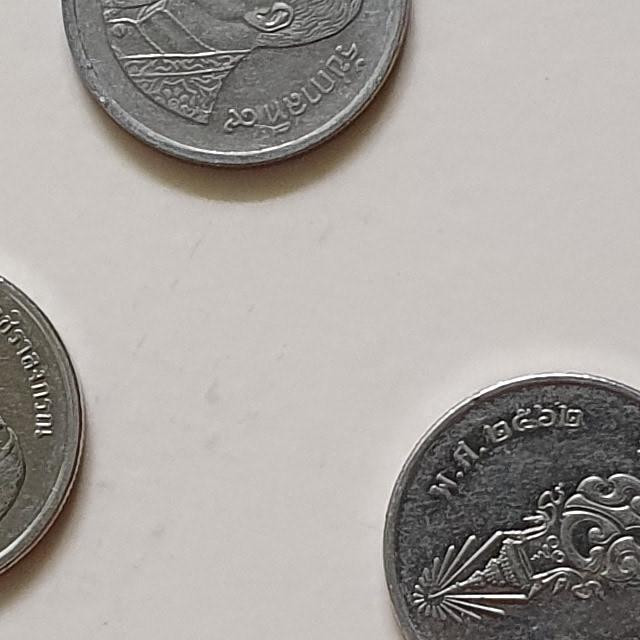1 Bath: (378, 366, 640, 640), (58, 1, 421, 174), (1, 269, 93, 583)
